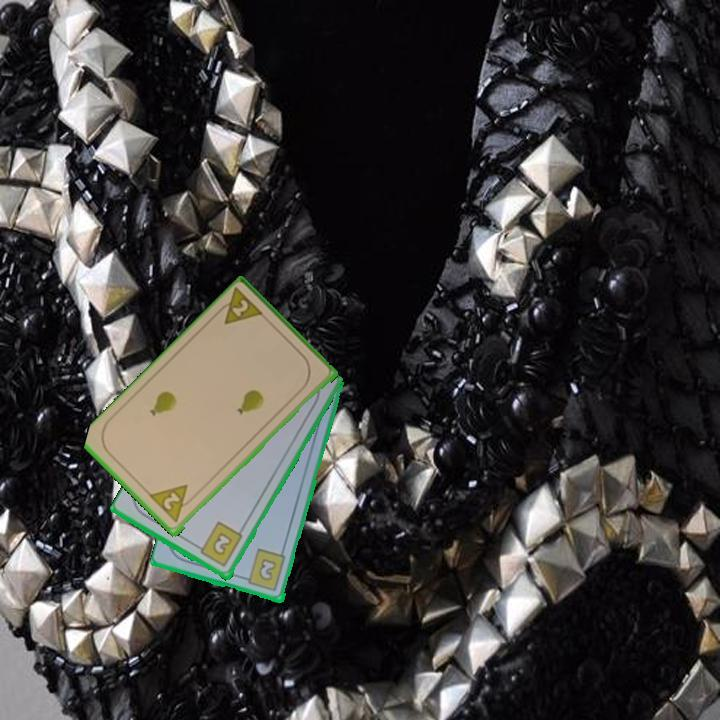2b: (192, 519, 245, 570), (239, 546, 289, 594)
2p: (212, 285, 267, 328), (147, 481, 199, 526)
